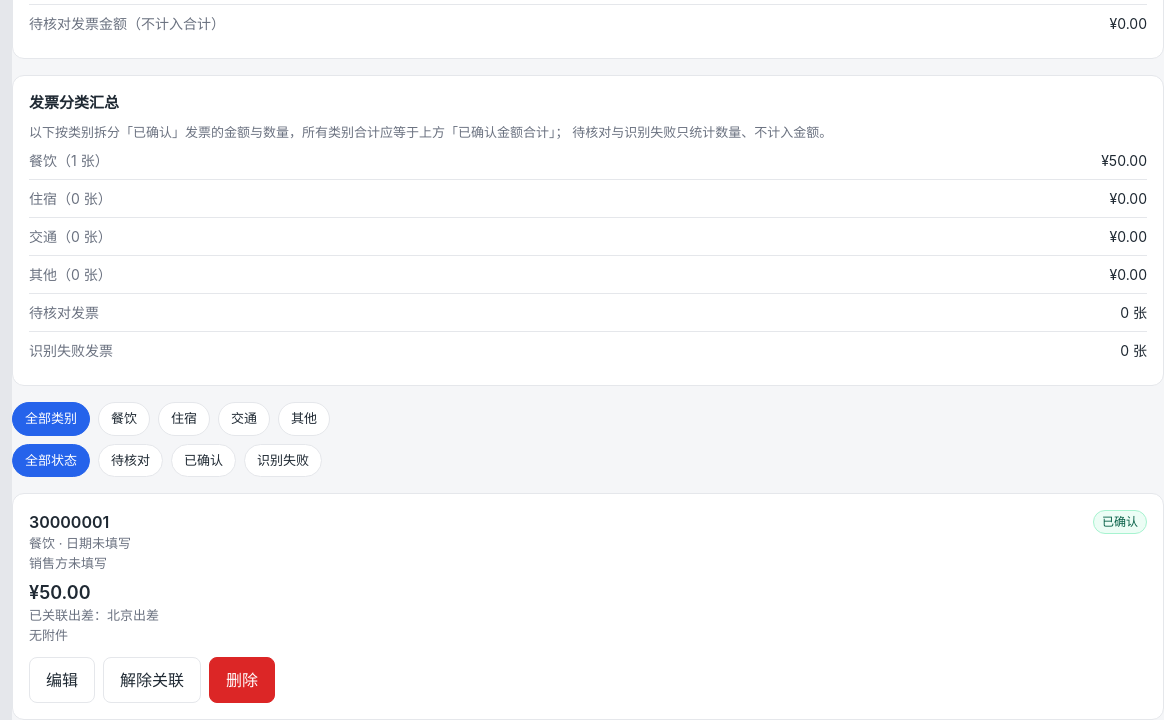
Test: 发票管理页 UI › 解除出差关联不影响分类金额，但影响餐补口径
This screenshot has width=1164, height=720.
(page scrolled)
Note: 解除关联后：分类金额不变，但「可计入餐补」归零
Click the button "解除关联" at [152, 680], box [103,657,201,703]
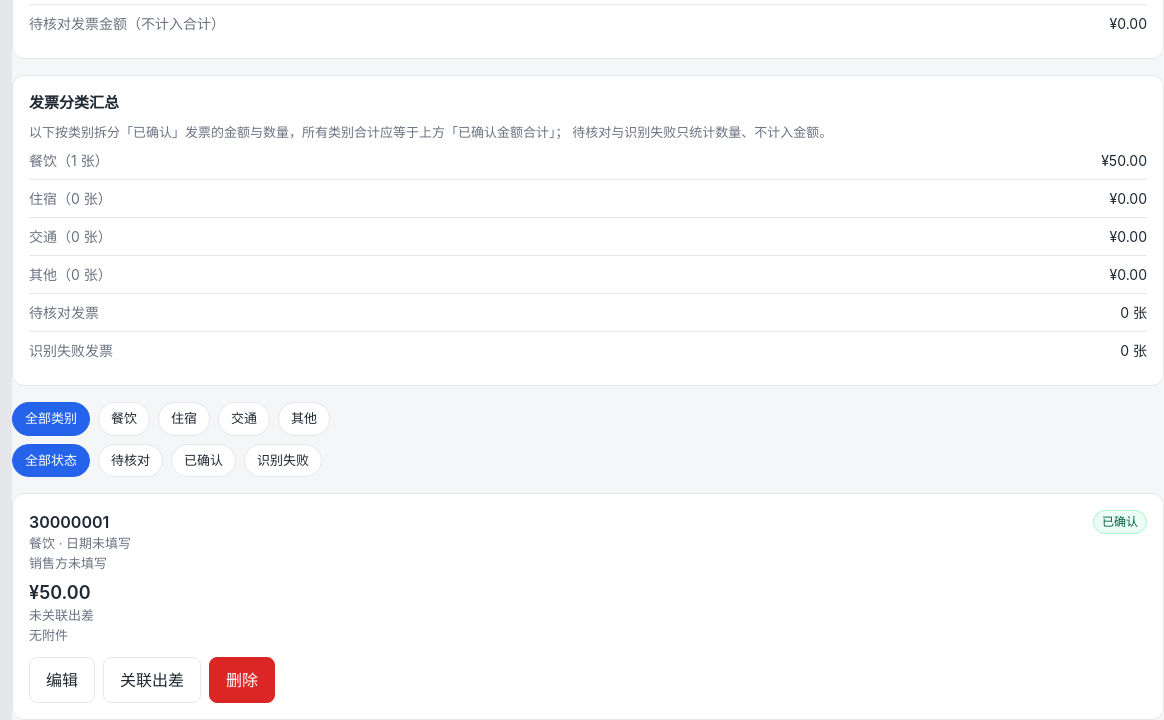
Now the text "未关联出差" is shown, box [29,607,94,623]
